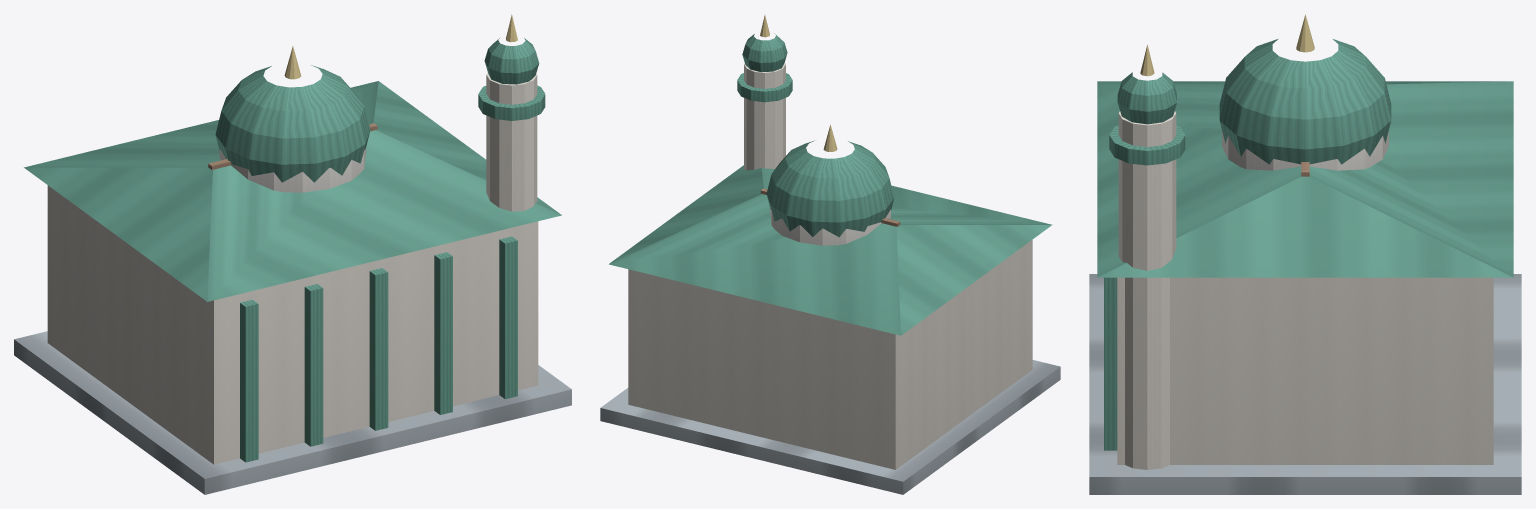
File: mosque_courtyard.glb
The picture shows the model from 3 angles, left to right: view 1: azimuth 30°, elevation 25°; view 2: azimuth 150°, elevation 25°; view 3: azimuth 270°, elevation 25°; orthographic projection. The views are drawn at different scales.
Visible parts, largest first — view 1: mosque_courtyard; view 2: mosque_courtyard; view 3: mosque_courtyard.
Boxes of the visible parts, bbox=[...] form: mosque_courtyard: bbox=[14, 14, 571, 494]; mosque_courtyard: bbox=[600, 15, 1060, 494]; mosque_courtyard: bbox=[1089, 14, 1521, 494].
Size of the model in its own units: 12 by 11.9 by 10.8.
1 material, 1 textured.
